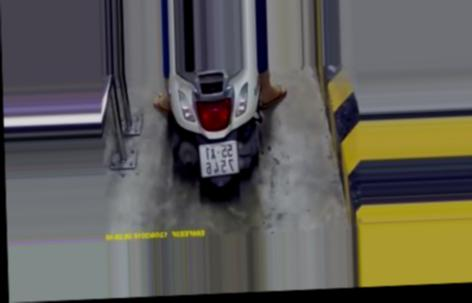License_Plate: (195, 135, 247, 179)
